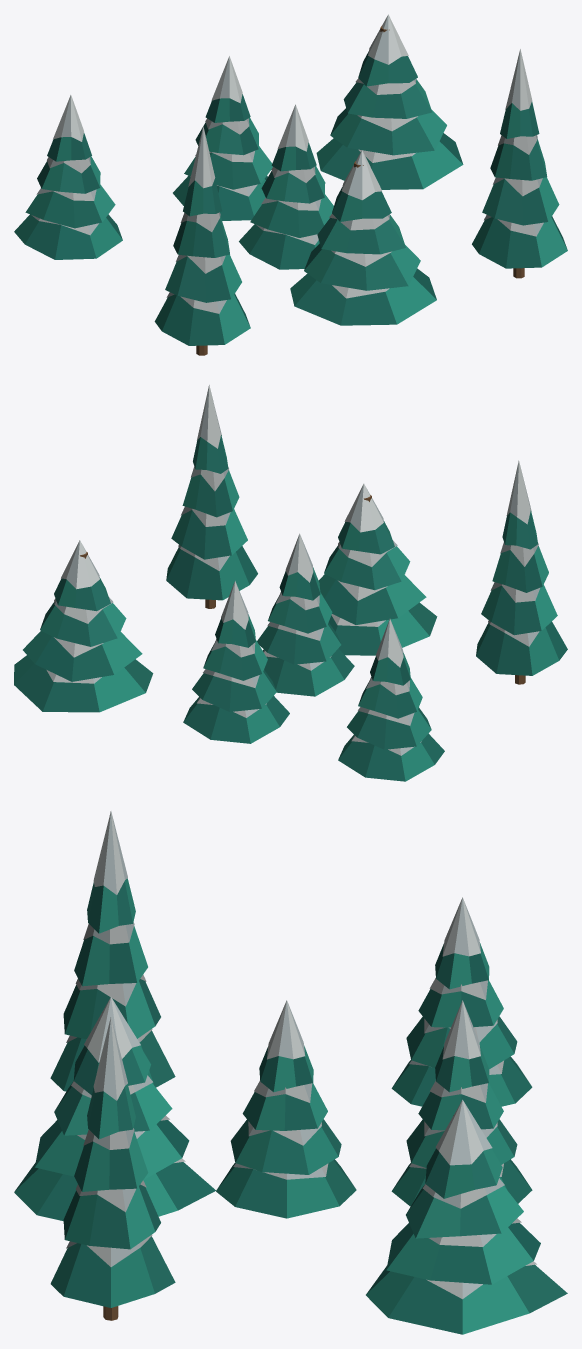
Rendered from fir-medium.glb.
The picture shows the model from 3 angles, top to bottom: view 1: azimuth 30°, elevation 25°; view 2: azimuth 150°, elevation 25°; view 3: azimuth 270°, elevation 25°; orthographic projection. The views are drawn at different scales.
Visible parts, largest first — view 1: forest; view 2: forest; view 3: forest.
Part boxes in pixels (x1,y1,x2,y2): forest: (14, 14, 567, 355); forest: (14, 385, 567, 781); forest: (14, 811, 567, 1334).
Size of the model in its own units: 9.78 by 4.94 by 8.19.
